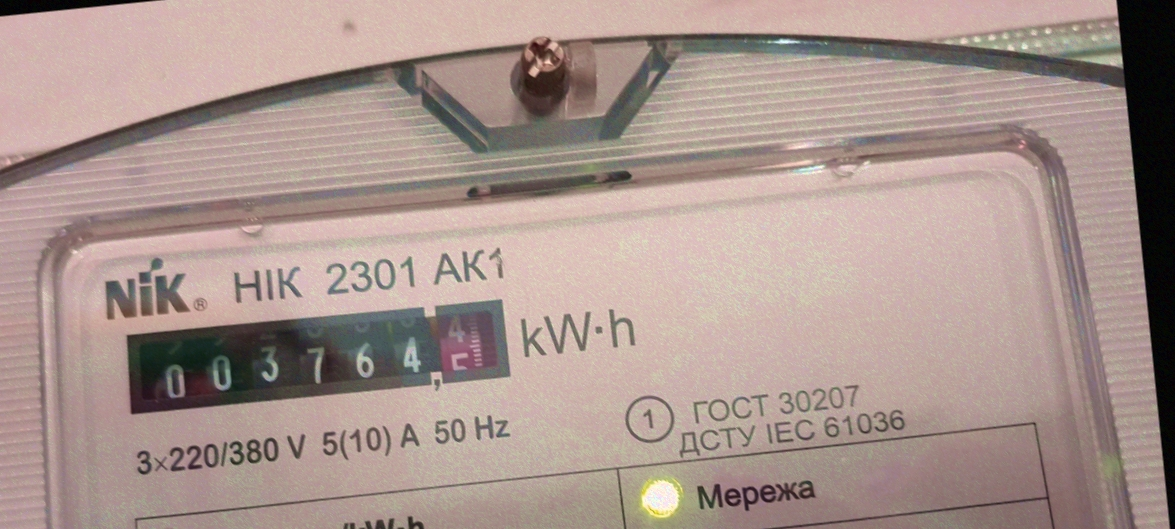0: (207, 351, 233, 393), (160, 360, 187, 400)
3: (254, 342, 281, 384)
4: (399, 333, 422, 374), (443, 311, 467, 345)
5: (447, 349, 470, 373)
6: (351, 339, 375, 380)
7: (303, 342, 329, 386)
screen: (106, 280, 526, 430)
